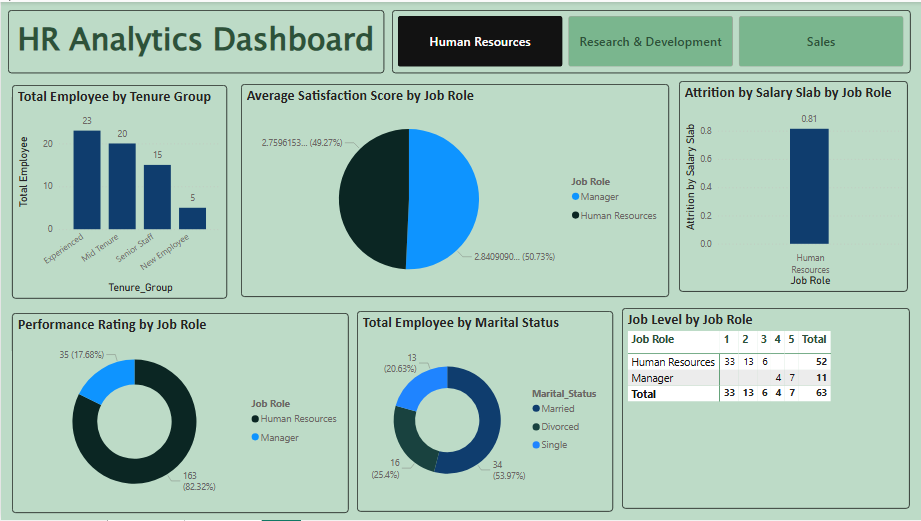

The dashboard page shown, as its layout file describes it:
{"tool":"powerbi","page":{"name":"Page 2","canvas":[1280,720],"ordinal":1},"visuals":[{"type":"textbox","box":[9.7,11.1,522.6,87.6],"z":0},{"type":"clusteredColumnChart","title":"Attrition by Salary Slab by Job Role","fields":{"Category":["HR_Analytics.Job_Role"],"Y":["HR_Analytics.Attrition by Salary Slab"]},"box":[942.4,109.8,318.3,293.3],"z":1000},{"type":"donutChart","title":"Performance Rating by Job Role","fields":{"Category":["HR_Analytics.Job_Role"],"Y":["Sum(HR_Analytics.Performance_Rating)"]},"box":[15.3,432.3,468.4,278],"z":2000},{"type":"pieChart","title":"Average Satisfaction Score by Job  Role","fields":{"Category":["HR_Analytics.Job_Role"],"Y":["HR_Analytics.Average Satisfaction Score"]},"box":[333.6,114,594.9,296.1],"z":3000},{"type":"pivotTable","title":"Job Level by Job  Role","fields":{"Rows":["HR_Analytics.Job_Role"],"Columns":["HR_Analytics.Job_Level"],"Values":["HR_Analytics.Total Employee"]},"box":[863.2,425.3,400.3,279.4],"z":4000},{"type":"clusteredColumnChart","title":"Total Employee by Tenure Group","fields":{"Category":["HR_Analytics.Tenure_Group"],"Y":["HR_Analytics.Total Employee"]},"box":[15.3,115.4,298.8,297.5],"z":6000},{"type":"advancedSlicerVisual","fields":{"Values":["HR_Analytics.Department"]},"box":[543.5,11.1,721.4,87.6],"z":7000},{"type":"donutChart","title":"Total Employee by Marital Status","fields":{"Category":["HR_Analytics.Marital_Status"],"Y":["HR_Analytics.Total Employee"]},"box":[494.8,429.5,355.8,279.4],"z":8000}]}

Visuals, with their boxes in screenshot pixels (x1, y1, x2, y2), scaled from the page's 1280x720 canvas onto the 921x521 screenshot:
textbox: 7,8,383,71
"Attrition by Salary Slab by Job Role" clusteredColumnChart: 678,79,907,292
"Performance Rating by Job Role" donutChart: 11,313,348,514
"Average Satisfaction Score by Job  Role" pieChart: 240,82,668,297
"Job Level by Job  Role" pivotTable: 621,308,909,510
"Total Employee by Tenure Group" clusteredColumnChart: 11,84,226,299
advancedSlicerVisual - HR_Analytics.Department: 391,8,910,71
"Total Employee by Marital Status" donutChart: 356,311,612,513
